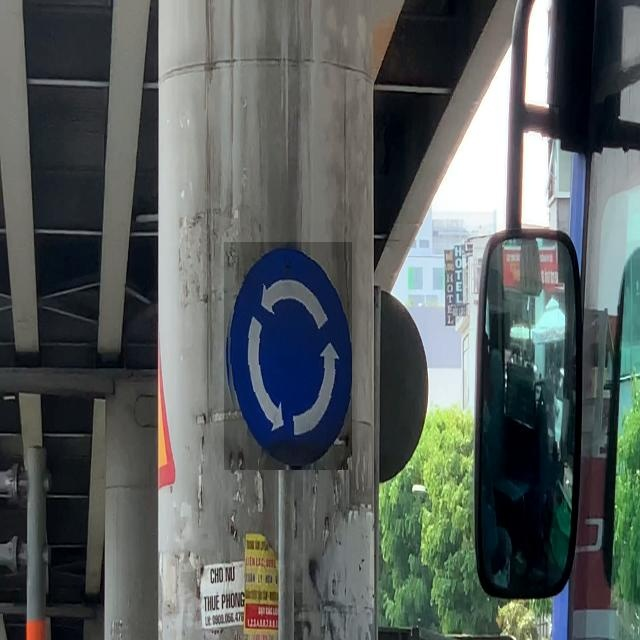bien_chi_dan: (224, 242, 352, 470)
